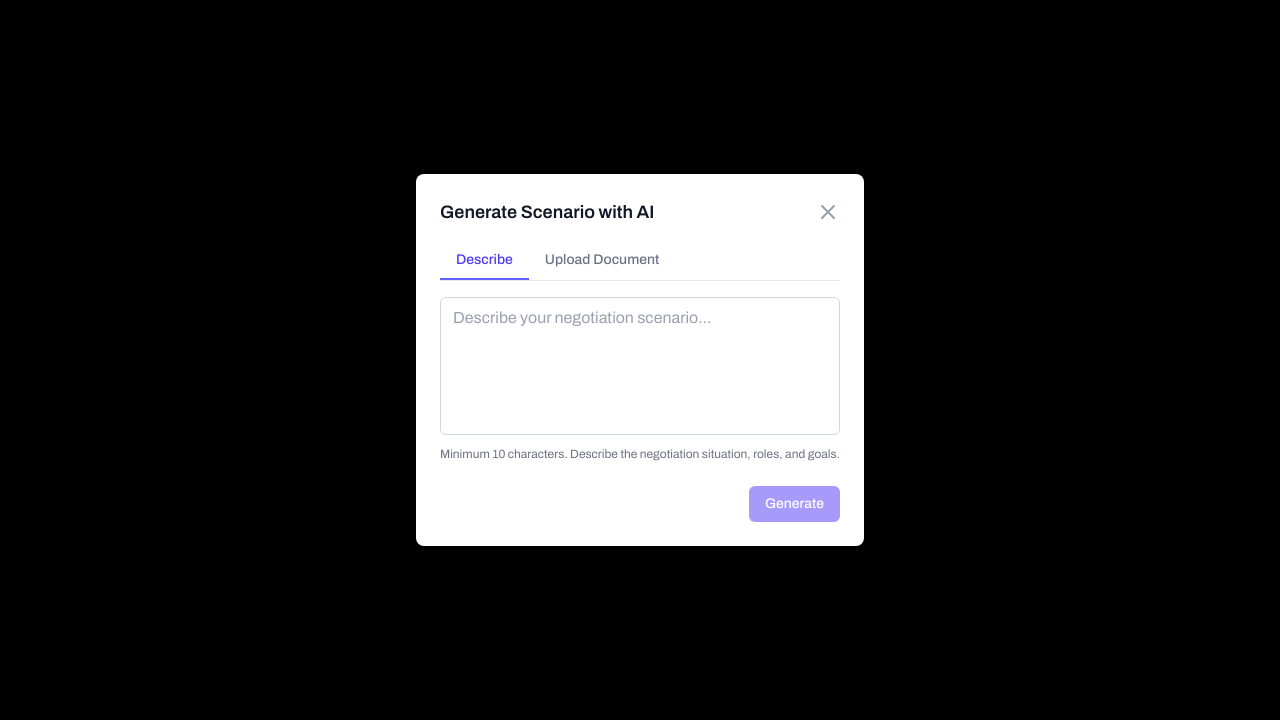
Test: GenerateScenarioModal › shows error message on generation failure
Type "A test scenario description" into the text box with test id "description-input".
click(640, 366); type("A test scenario description")  # box [440,297,840,435]
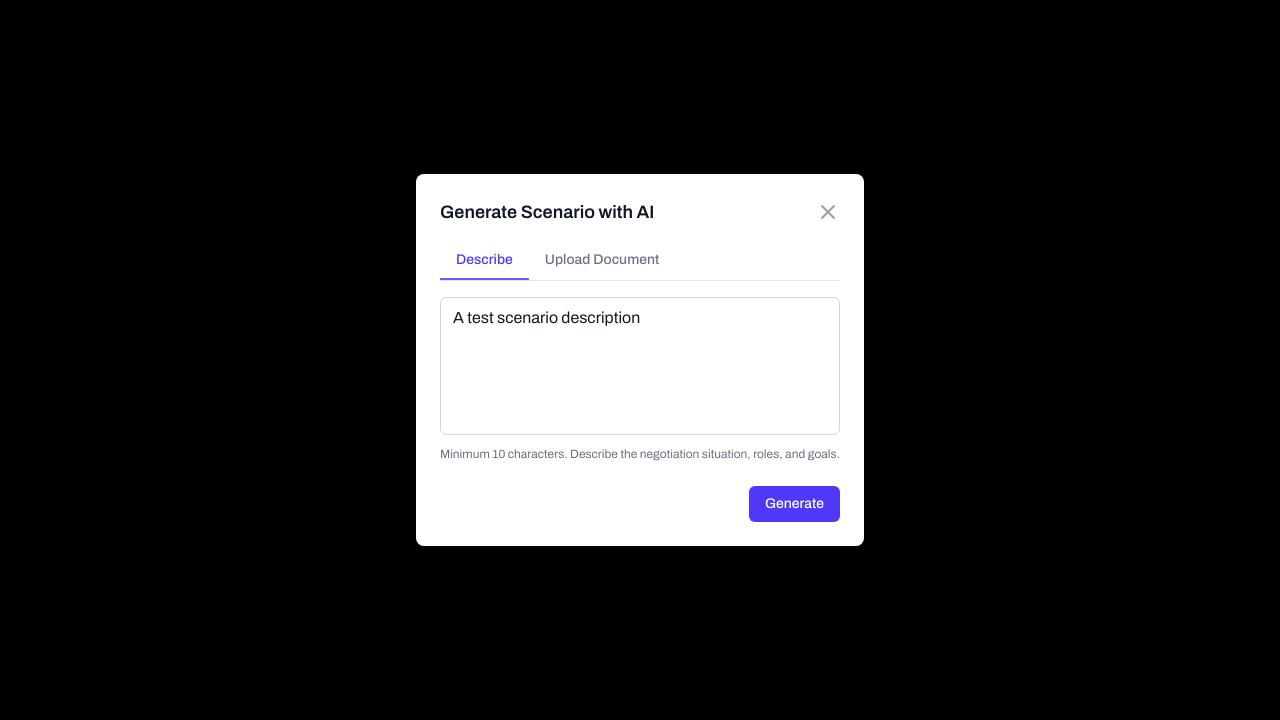
Click the button with test id "generate-button".
click(794, 504)  # box [749,486,840,522]
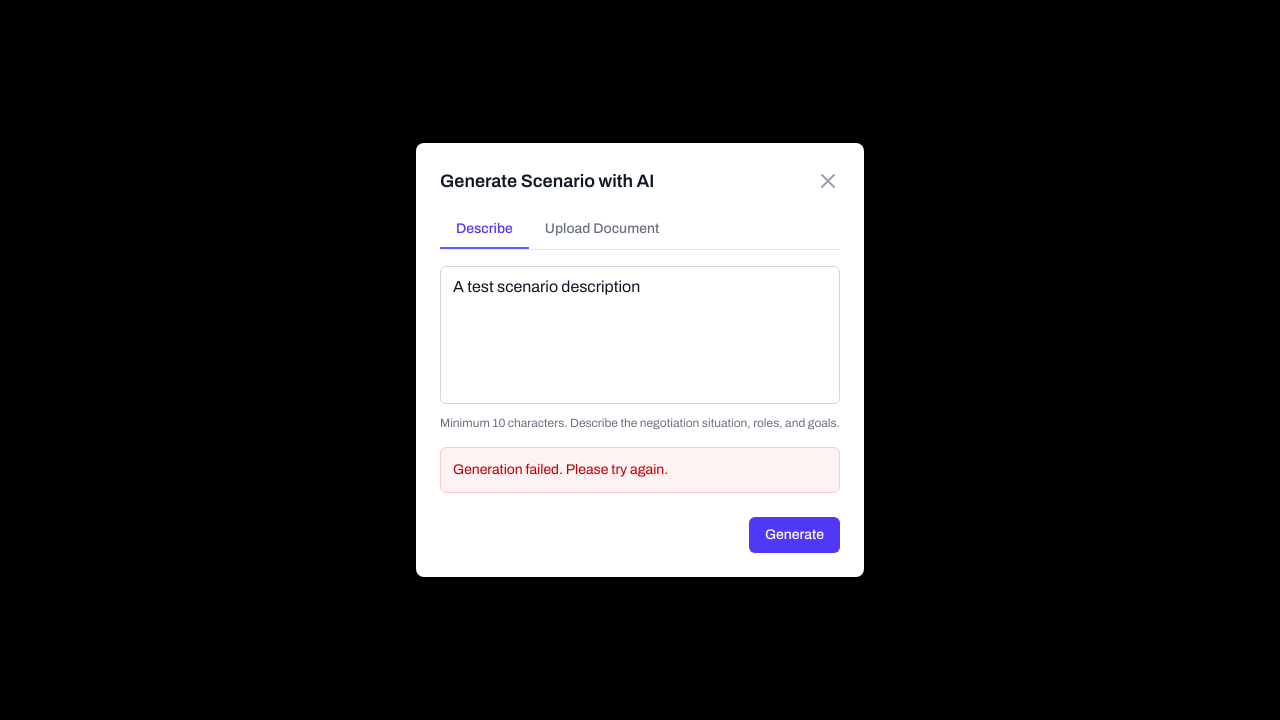
Expected: the element with test id "error-message" is shown, [440,447,840,493]
Expected: the text "Generation failed. Please try again." is shown, [453,462,668,477]
